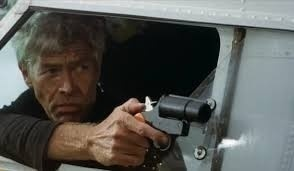pistol: (143, 96, 221, 140)
